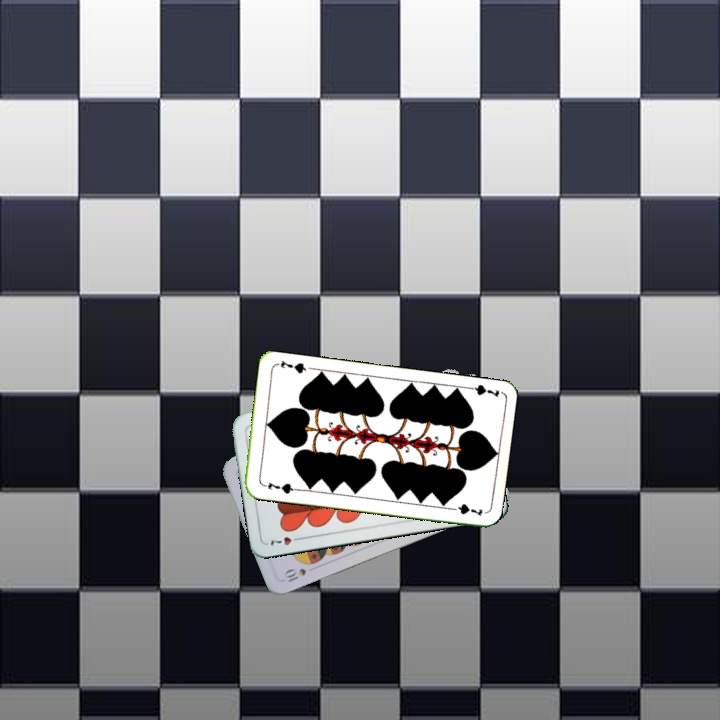G7: (461, 381, 501, 400), (258, 478, 299, 496)
H7: (266, 533, 305, 548)
S10: (281, 564, 309, 585)
